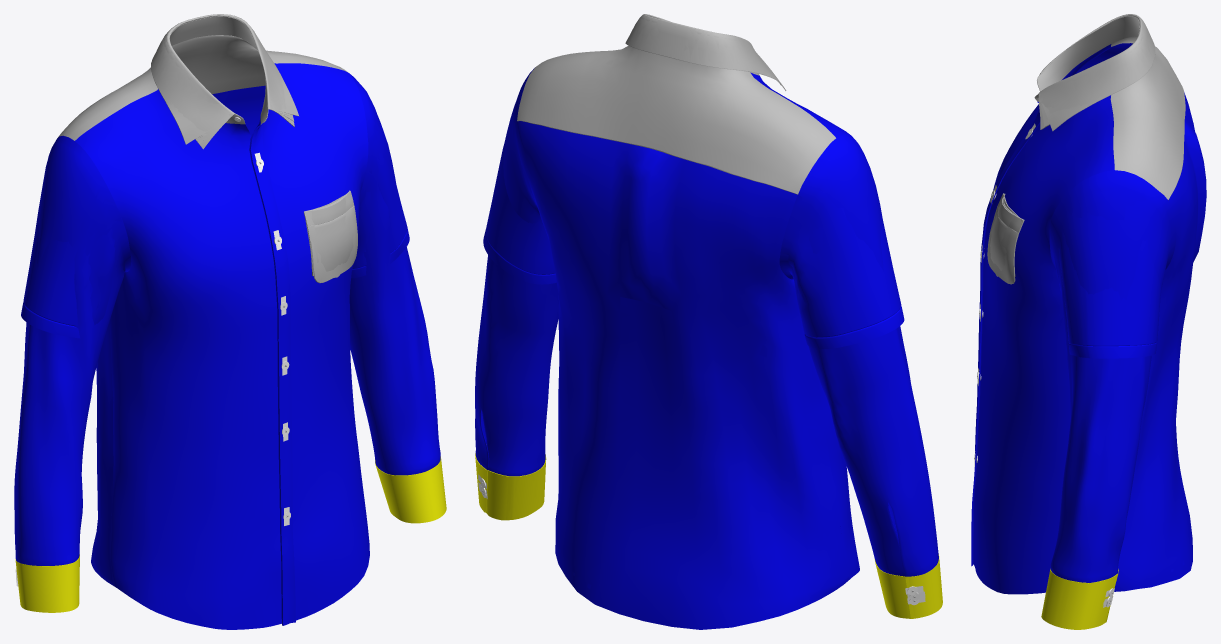
Rendered from shirt-1.glb.
3 renders of one model, left to right at view 1: azimuth 30°, elevation 25°; view 2: azimuth 150°, elevation 25°; view 3: azimuth 270°, elevation 25°, orthographic. The views are drawn at different scales.
Parts seen in each view (by area): view 1: shirt, sleeve, short_sleeve, yoke, placket_double.001, pleat_no, collar, collar.003, cuff.001, cuff.002, pocket_corner, pocket_round (+3 smaller); view 2: pleat_no, sleeve, pleat_box, yoke, short_sleeve, shirt, collar.003, cuff.002, cuff, collar.004, cuff.001, collar.001 (+1 smaller); view 3: shirt, sleeve, pleat_no, short_sleeve, yoke, collar, pleat_box, collar.003, cuff.001, placket_double.001, collar.004, pocket_round (+4 smaller).
Boxes of the visible parts, x1=… form: shirt: x1=75, y1=63, x2=369, y2=629; sleeve: x1=14, y1=73, x2=440, y2=565; short_sleeve: x1=21, y1=79, x2=409, y2=338; yoke: x1=57, y1=35, x2=347, y2=140; placket_double.001: x1=250, y1=123, x2=295, y2=625; pleat_no: x1=91, y1=85, x2=265, y2=585; collar: x1=151, y1=14, x2=298, y2=144; collar.003: x1=151, y1=14, x2=294, y2=149; cuff.001: x1=15, y1=456, x2=443, y2=612; cuff.002: x1=15, y1=461, x2=443, y2=612; pocket_corner: x1=305, y1=191, x2=353, y2=276; pocket_round: x1=304, y1=190, x2=357, y2=283; pleat_no: x1=517, y1=121, x2=849, y2=629; sleeve: x1=475, y1=96, x2=938, y2=576; pleat_box: x1=541, y1=134, x2=756, y2=330; yoke: x1=517, y1=45, x2=835, y2=194; short_sleeve: x1=483, y1=68, x2=904, y2=348; shirt: x1=750, y1=72, x2=859, y2=579; collar.003: x1=625, y1=14, x2=781, y2=85; cuff.002: x1=476, y1=457, x2=942, y2=618; cuff: x1=486, y1=472, x2=926, y2=617; collar.004: x1=637, y1=18, x2=779, y2=83; cuff.001: x1=475, y1=453, x2=939, y2=618; collar.001: x1=625, y1=14, x2=770, y2=72; shirt: x1=973, y1=44, x2=1114, y2=594; sleeve: x1=1049, y1=45, x2=1176, y2=582; pleat_no: x1=1114, y1=92, x2=1195, y2=591; short_sleeve: x1=1049, y1=43, x2=1176, y2=358; yoke: x1=1110, y1=36, x2=1185, y2=199; collar: x1=1034, y1=14, x2=1155, y2=131; pleat_box: x1=1177, y1=95, x2=1206, y2=308; collar.003: x1=1038, y1=14, x2=1153, y2=129; cuff.001: x1=1050, y1=569, x2=1118, y2=629; placket_double.001: x1=971, y1=102, x2=1040, y2=566; collar.004: x1=1039, y1=15, x2=1155, y2=126; pocket_round: x1=987, y1=193, x2=1024, y2=284.
Size of the model in its own units: 0.7649 by 0.9463 by 0.3772.
